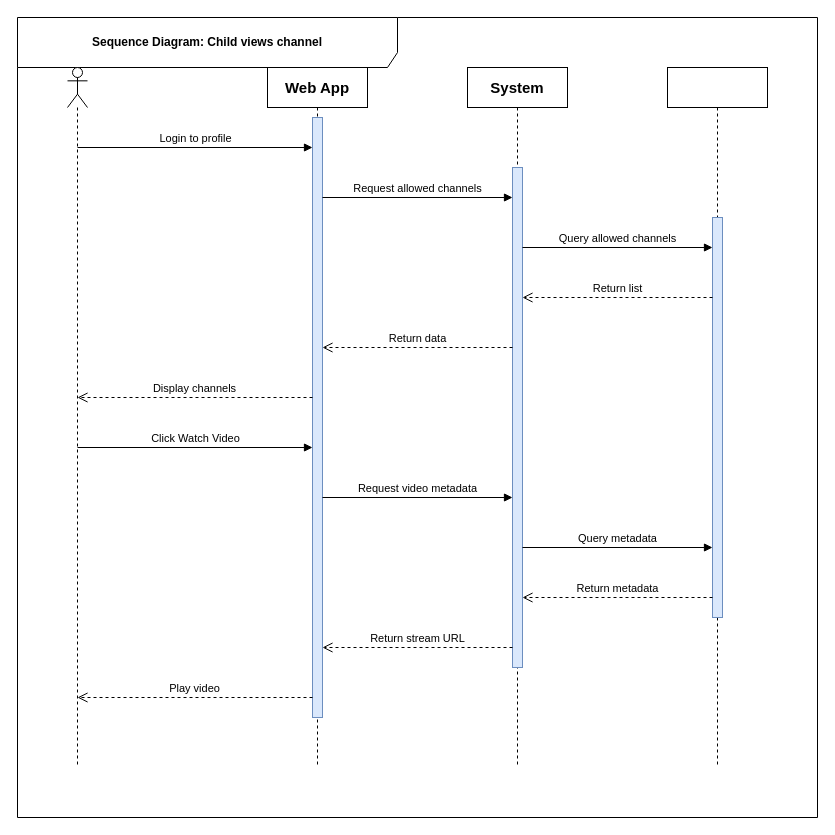
The diagram is 835 pixels wide and 835 high, and some of its shapes have lost their labels. Each missing label, with the box of its shape:
Child: (66, 66, 88, 768)
Database: (666, 66, 768, 768)
